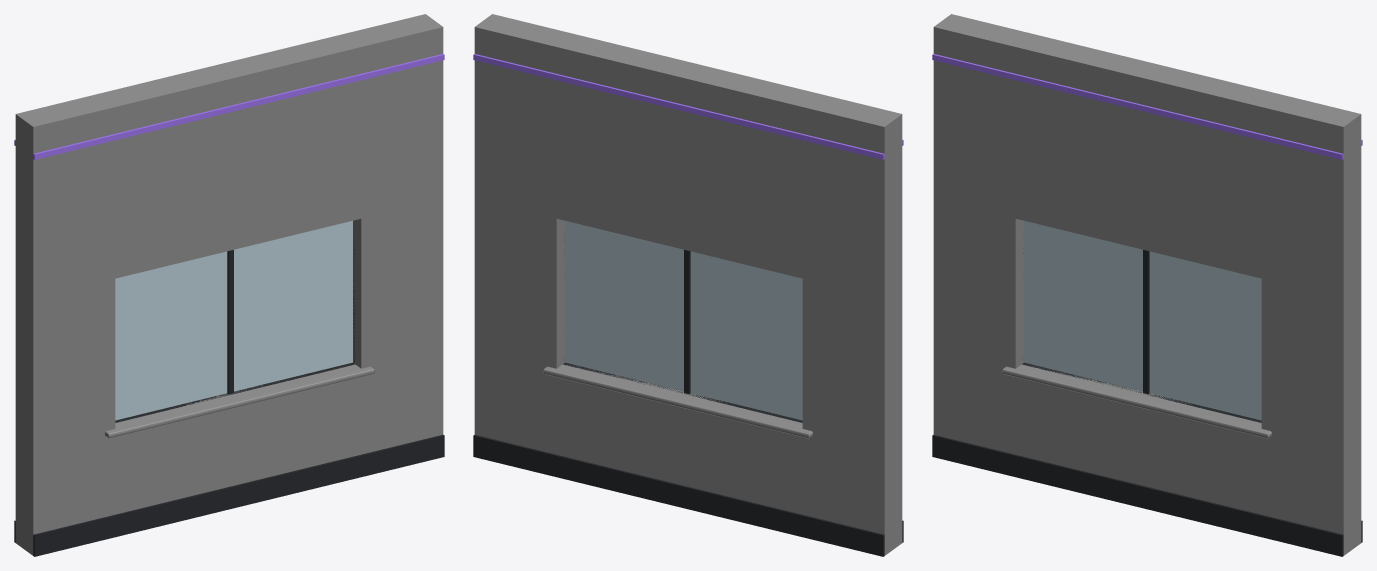
Rendered from Wall_Vault_Window_4m.fbx.
The picture shows the model from 3 angles, left to right: view 1: azimuth 30°, elevation 25°; view 2: azimuth 150°, elevation 25°; view 3: azimuth 330°, elevation 25°; orthographic projection.
Parts seen in each view (by area): view 1: Wall_Vault_Window_4m_LOD0; view 2: Wall_Vault_Window_4m_LOD0; view 3: Wall_Vault_Window_4m_LOD0.
Boxes of the visible parts, x1,y1,x2,y2 form: Wall_Vault_Window_4m_LOD0: [14, 14, 444, 556]; Wall_Vault_Window_4m_LOD0: [473, 14, 903, 556]; Wall_Vault_Window_4m_LOD0: [932, 14, 1362, 556].
Size of what is drawn, in the model's own units: 4 by 4 by 0.42.
